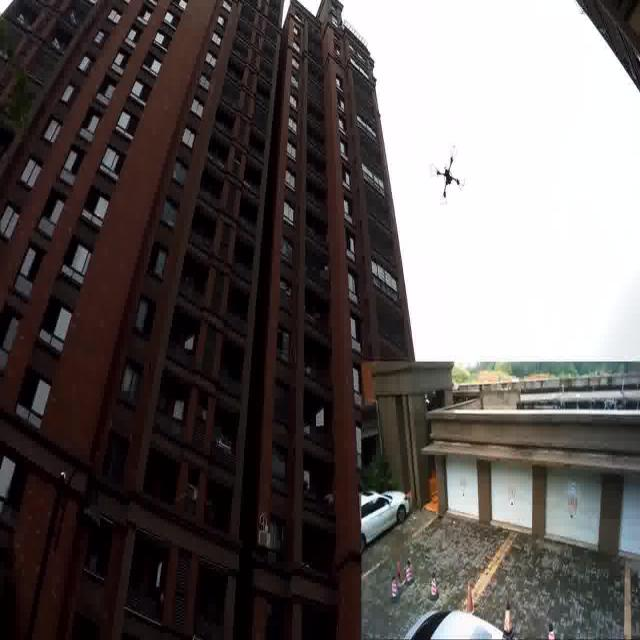drone: (430, 143, 464, 200)
